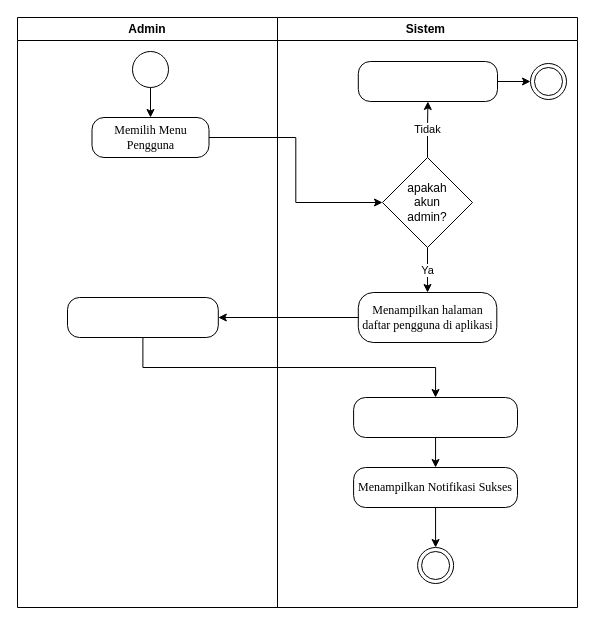
This 595x625 diagram has some shape labels left out. Here are the shapes that lost their labels. From the top down, the centre of each, then its label:
pixel 427 81: Menampilkan Halaman "403 - Forbidden"
pixel 142 317: Memilih akun pengguna yang akan diberikan peran Admin
pixel 435 417: Memberikan peran Admin pada akun pengguna yang dipilih
